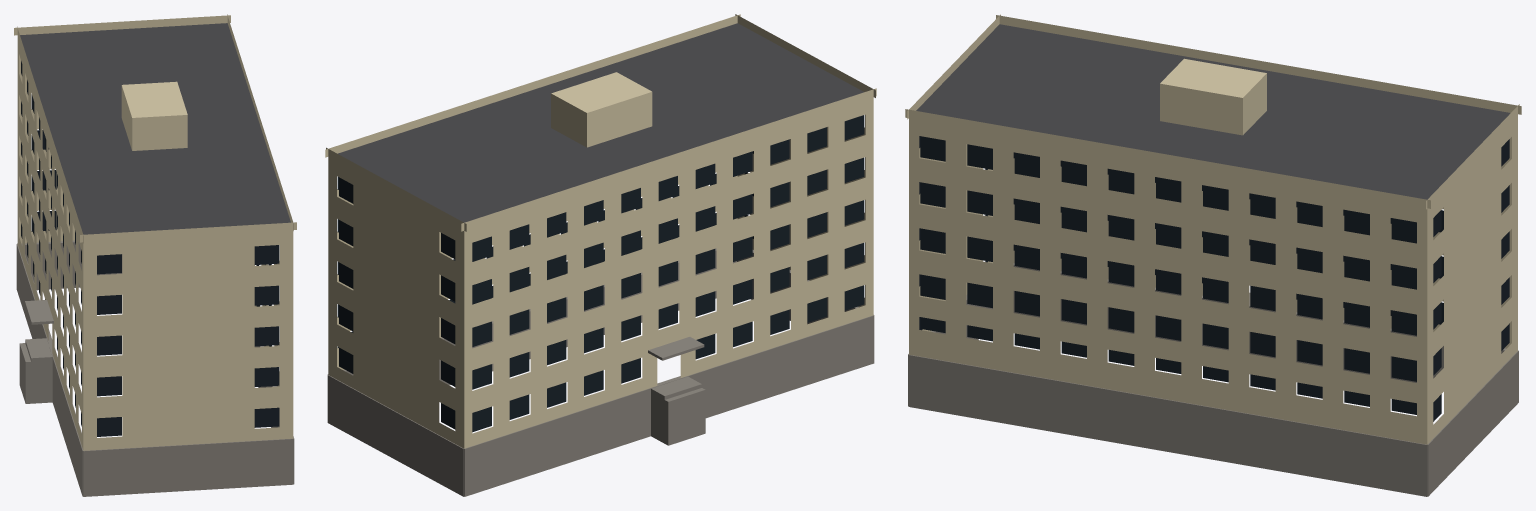
The model's file is sevgu_gogolya23.lod.glb.
The picture shows the model from 3 angles, left to right: view 1: azimuth 30°, elevation 25°; view 2: azimuth 150°, elevation 25°; view 3: azimuth 270°, elevation 25°; orthographic projection. The views are drawn at different scales.
Visible parts, largest first — view 1: sevgu_gogolya23_wall, sevgu_gogolya23_roof, sevgu_gogolya23_stone, sevgu_gogolya23_glass; view 2: sevgu_gogolya23_wall, sevgu_gogolya23_roof, sevgu_gogolya23_stone, sevgu_gogolya23_glass; view 3: sevgu_gogolya23_wall, sevgu_gogolya23_roof, sevgu_gogolya23_stone, sevgu_gogolya23_glass.
Boxes of the visible parts, bbox=[...] form: sevgu_gogolya23_wall: bbox=[14, 14, 296, 450]; sevgu_gogolya23_roof: bbox=[20, 23, 290, 234]; sevgu_gogolya23_stone: bbox=[16, 240, 294, 496]; sevgu_gogolya23_glass: bbox=[21, 61, 279, 436]; sevgu_gogolya23_wall: bbox=[325, 14, 876, 448]; sevgu_gogolya23_roof: bbox=[338, 23, 863, 222]; sevgu_gogolya23_stone: bbox=[327, 248, 874, 496]; sevgu_gogolya23_glass: bbox=[337, 115, 864, 432]; sevgu_gogolya23_wall: bbox=[905, 14, 1521, 444]; sevgu_gogolya23_roof: bbox=[916, 24, 1510, 199]; sevgu_gogolya23_stone: bbox=[908, 263, 1518, 496]; sevgu_gogolya23_glass: bbox=[919, 136, 1509, 421].
Size of the model in its own units: 27.86 by 22.6 by 38.76.
